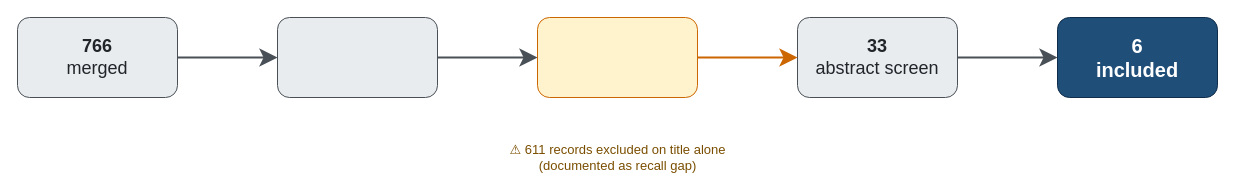
This 1235x195 diagram has some shape labels left out. Here are the shapes that lost their labels. From the top down, the centre of each, then its label:
(357,57): 669 deduped
(617,57): 58 title pre-filter
